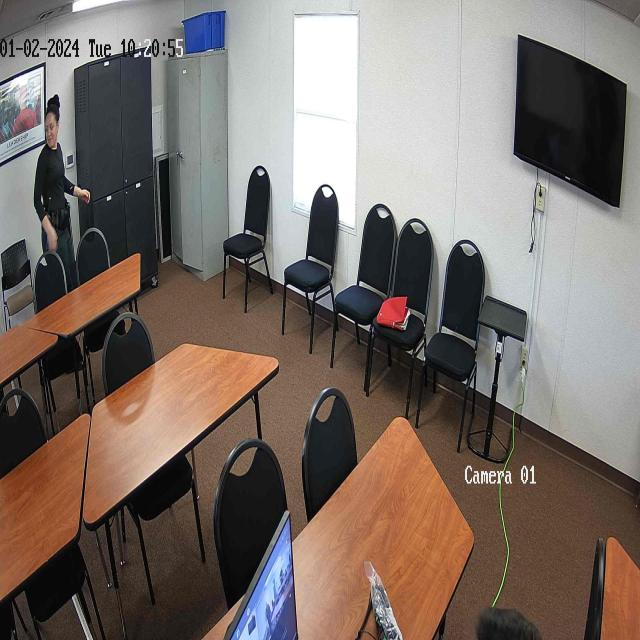weapon: (48, 213, 57, 227)
